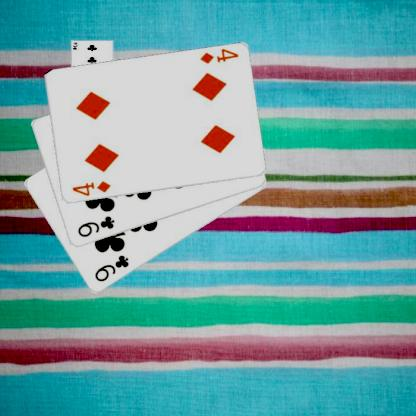4D: (69, 179, 112, 197), (197, 47, 240, 65)
9C: (92, 252, 130, 284), (75, 213, 116, 239)
